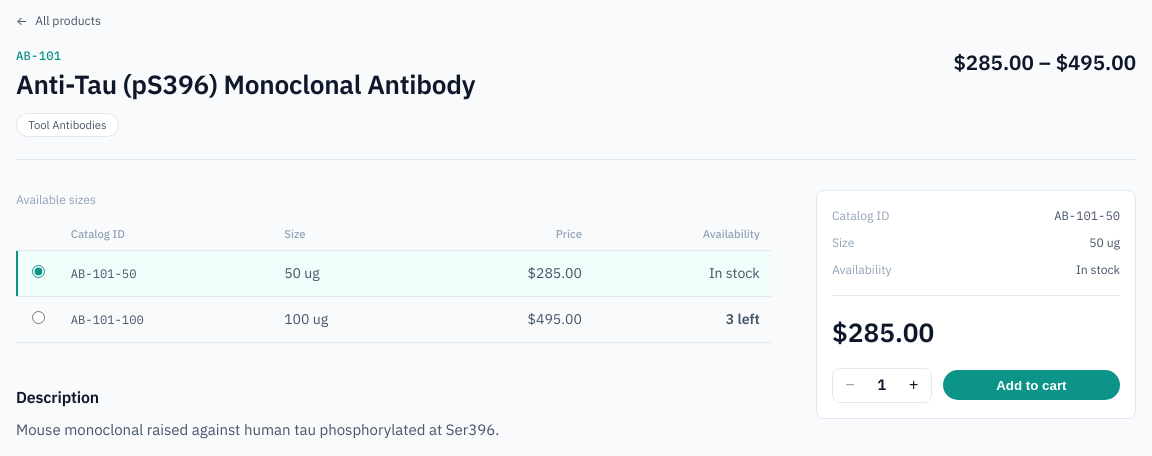
Test: ProductDetailPage › switches the buy panel when another size is chosen
Expected: the text "AB-101" is shown, x1=16 y1=48 x2=61 y2=62
Expected: the text "AB-101-50" is shown, x1=1054 y1=208 x2=1120 y2=223
What coordinates should you click on to do the following:
click the radio button named "AB-101-100, 100 ug"
I would click on:
 (39, 318)
Its box is x1=32 y1=311 x2=45 y2=324.
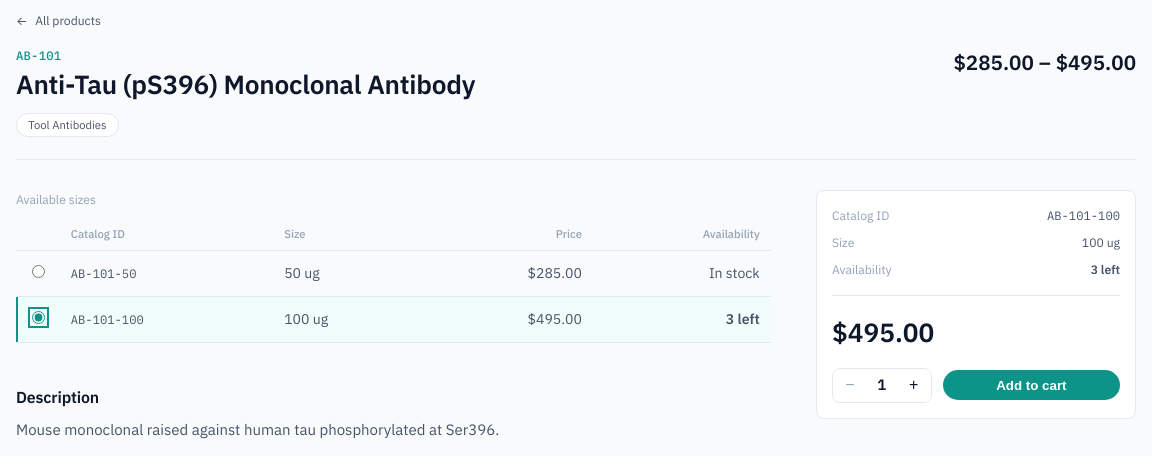
Expected: the text "AB-101-100" is shown, x1=1047 y1=208 x2=1120 y2=223
Expected: the text "100 ug" is shown, x1=1082 y1=235 x2=1120 y2=250
